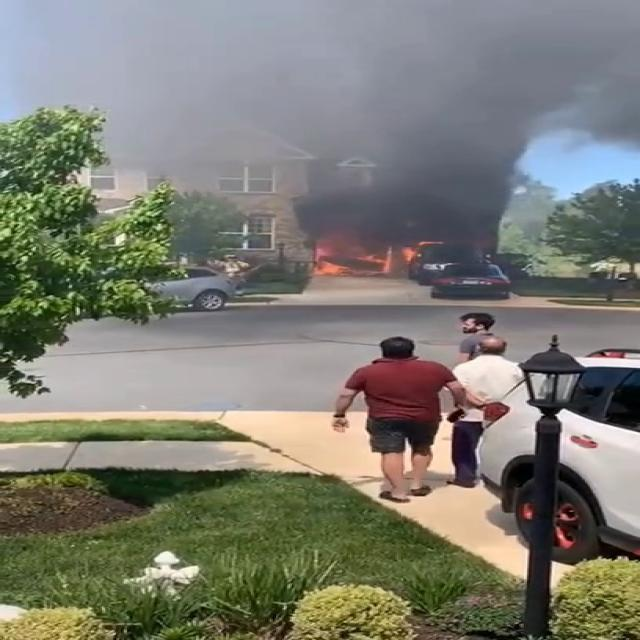Smoke: (103, 0, 626, 242)
